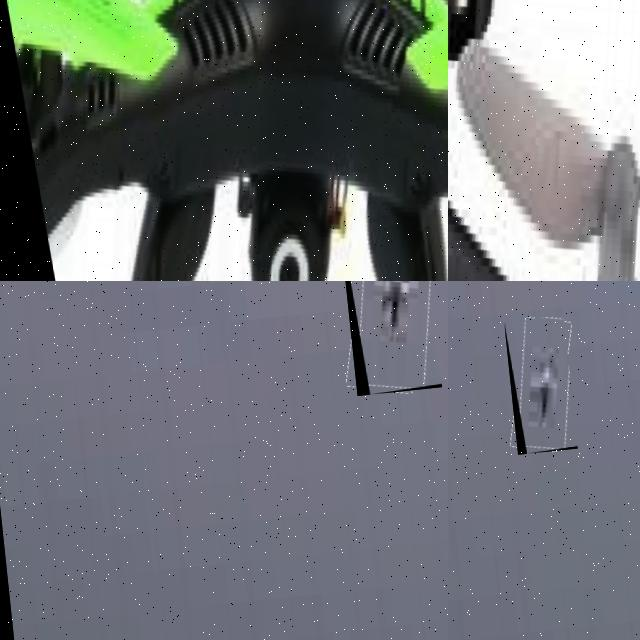0: (337, 281, 442, 396), (503, 315, 578, 454)
drone: (0, 0, 448, 281), (448, 0, 640, 281)
